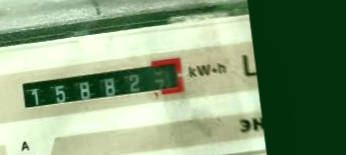1: (28, 87, 39, 106)
2: (126, 72, 140, 94)
5: (50, 84, 66, 104)
7: (151, 76, 164, 90)
8: (100, 76, 116, 98), (77, 80, 91, 101)
screen: (15, 56, 187, 117)
